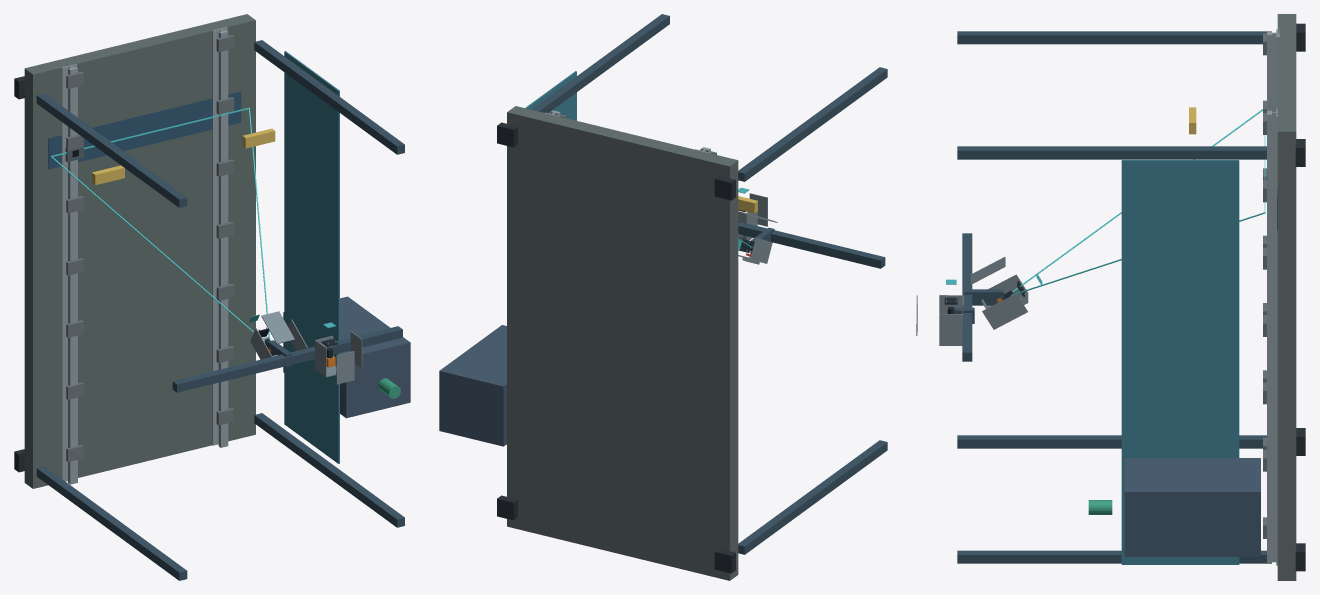
File: bench_concept.obj
The picture shows the model from 3 angles, left to right: view 1: azimuth 30°, elevation 25°; view 2: azimuth 150°, elevation 25°; view 3: azimuth 270°, elevation 25°; orthographic projection. The views are drawn at different scales.
Visible parts, largest first — view 1: base_0, guard_31, cabinet_79, stage_30, rail_4, rail_1, beam_29, rail_foot_6, post_23, post_21, post_27, post_25 (+4 smaller); view 2: base_0, cabinet_79, post_21, post_23, post_27, beam_29, guard_31; view 3: guard_31, cabinet_79, base_0, post_27, post_23, post_21, post_25, rail_4, rail_web_5, beam_29, CAM_LINE_right_33, rail_foot_6 (+2 smaller).
Boxes of the visible parts, box(x1,y1,x2,y2) form: base_0: box(24, 14, 255, 488); guard_31: box(284, 51, 339, 463); cabinet_79: box(283, 296, 410, 418); stage_30: box(48, 91, 241, 169); rail_4: box(218, 30, 228, 447); rail_1: box(68, 67, 77, 484); beam_29: box(172, 326, 402, 392); rail_foot_6: box(211, 27, 227, 445); post_23: box(36, 93, 187, 207); post_21: box(36, 466, 187, 580); post_27: box(254, 40, 404, 154); post_25: box(254, 413, 404, 527); base_0: box(507, 106, 738, 580); cabinet_79: box(439, 325, 506, 446); post_21: box(738, 440, 887, 554); post_23: box(738, 67, 887, 181); post_27: box(531, 14, 669, 112); beam_29: box(738, 222, 885, 268); guard_31: box(525, 71, 576, 120); guard_31: box(1121, 160, 1239, 564); cabinet_79: box(1124, 458, 1260, 556); base_0: box(1277, 14, 1296, 580); post_27: box(957, 146, 1266, 159); post_23: box(957, 31, 1266, 44); post_21: box(957, 435, 1266, 448); post_25: box(957, 550, 1266, 563); rail_4: box(1267, 110, 1271, 563); rail_web_5: box(1272, 112, 1276, 562); beam_29: box(962, 233, 972, 361); CAM_LINE_right_33: box(982, 293, 1027, 329); rail_foot_6: box(1276, 108, 1278, 565).
Size of the model in its own units: 3.16 by 4 by 3.14.
